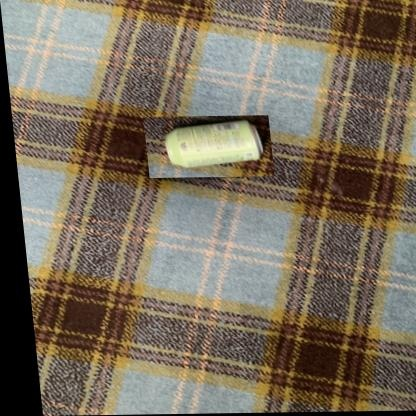trash: (165, 120, 262, 167)
